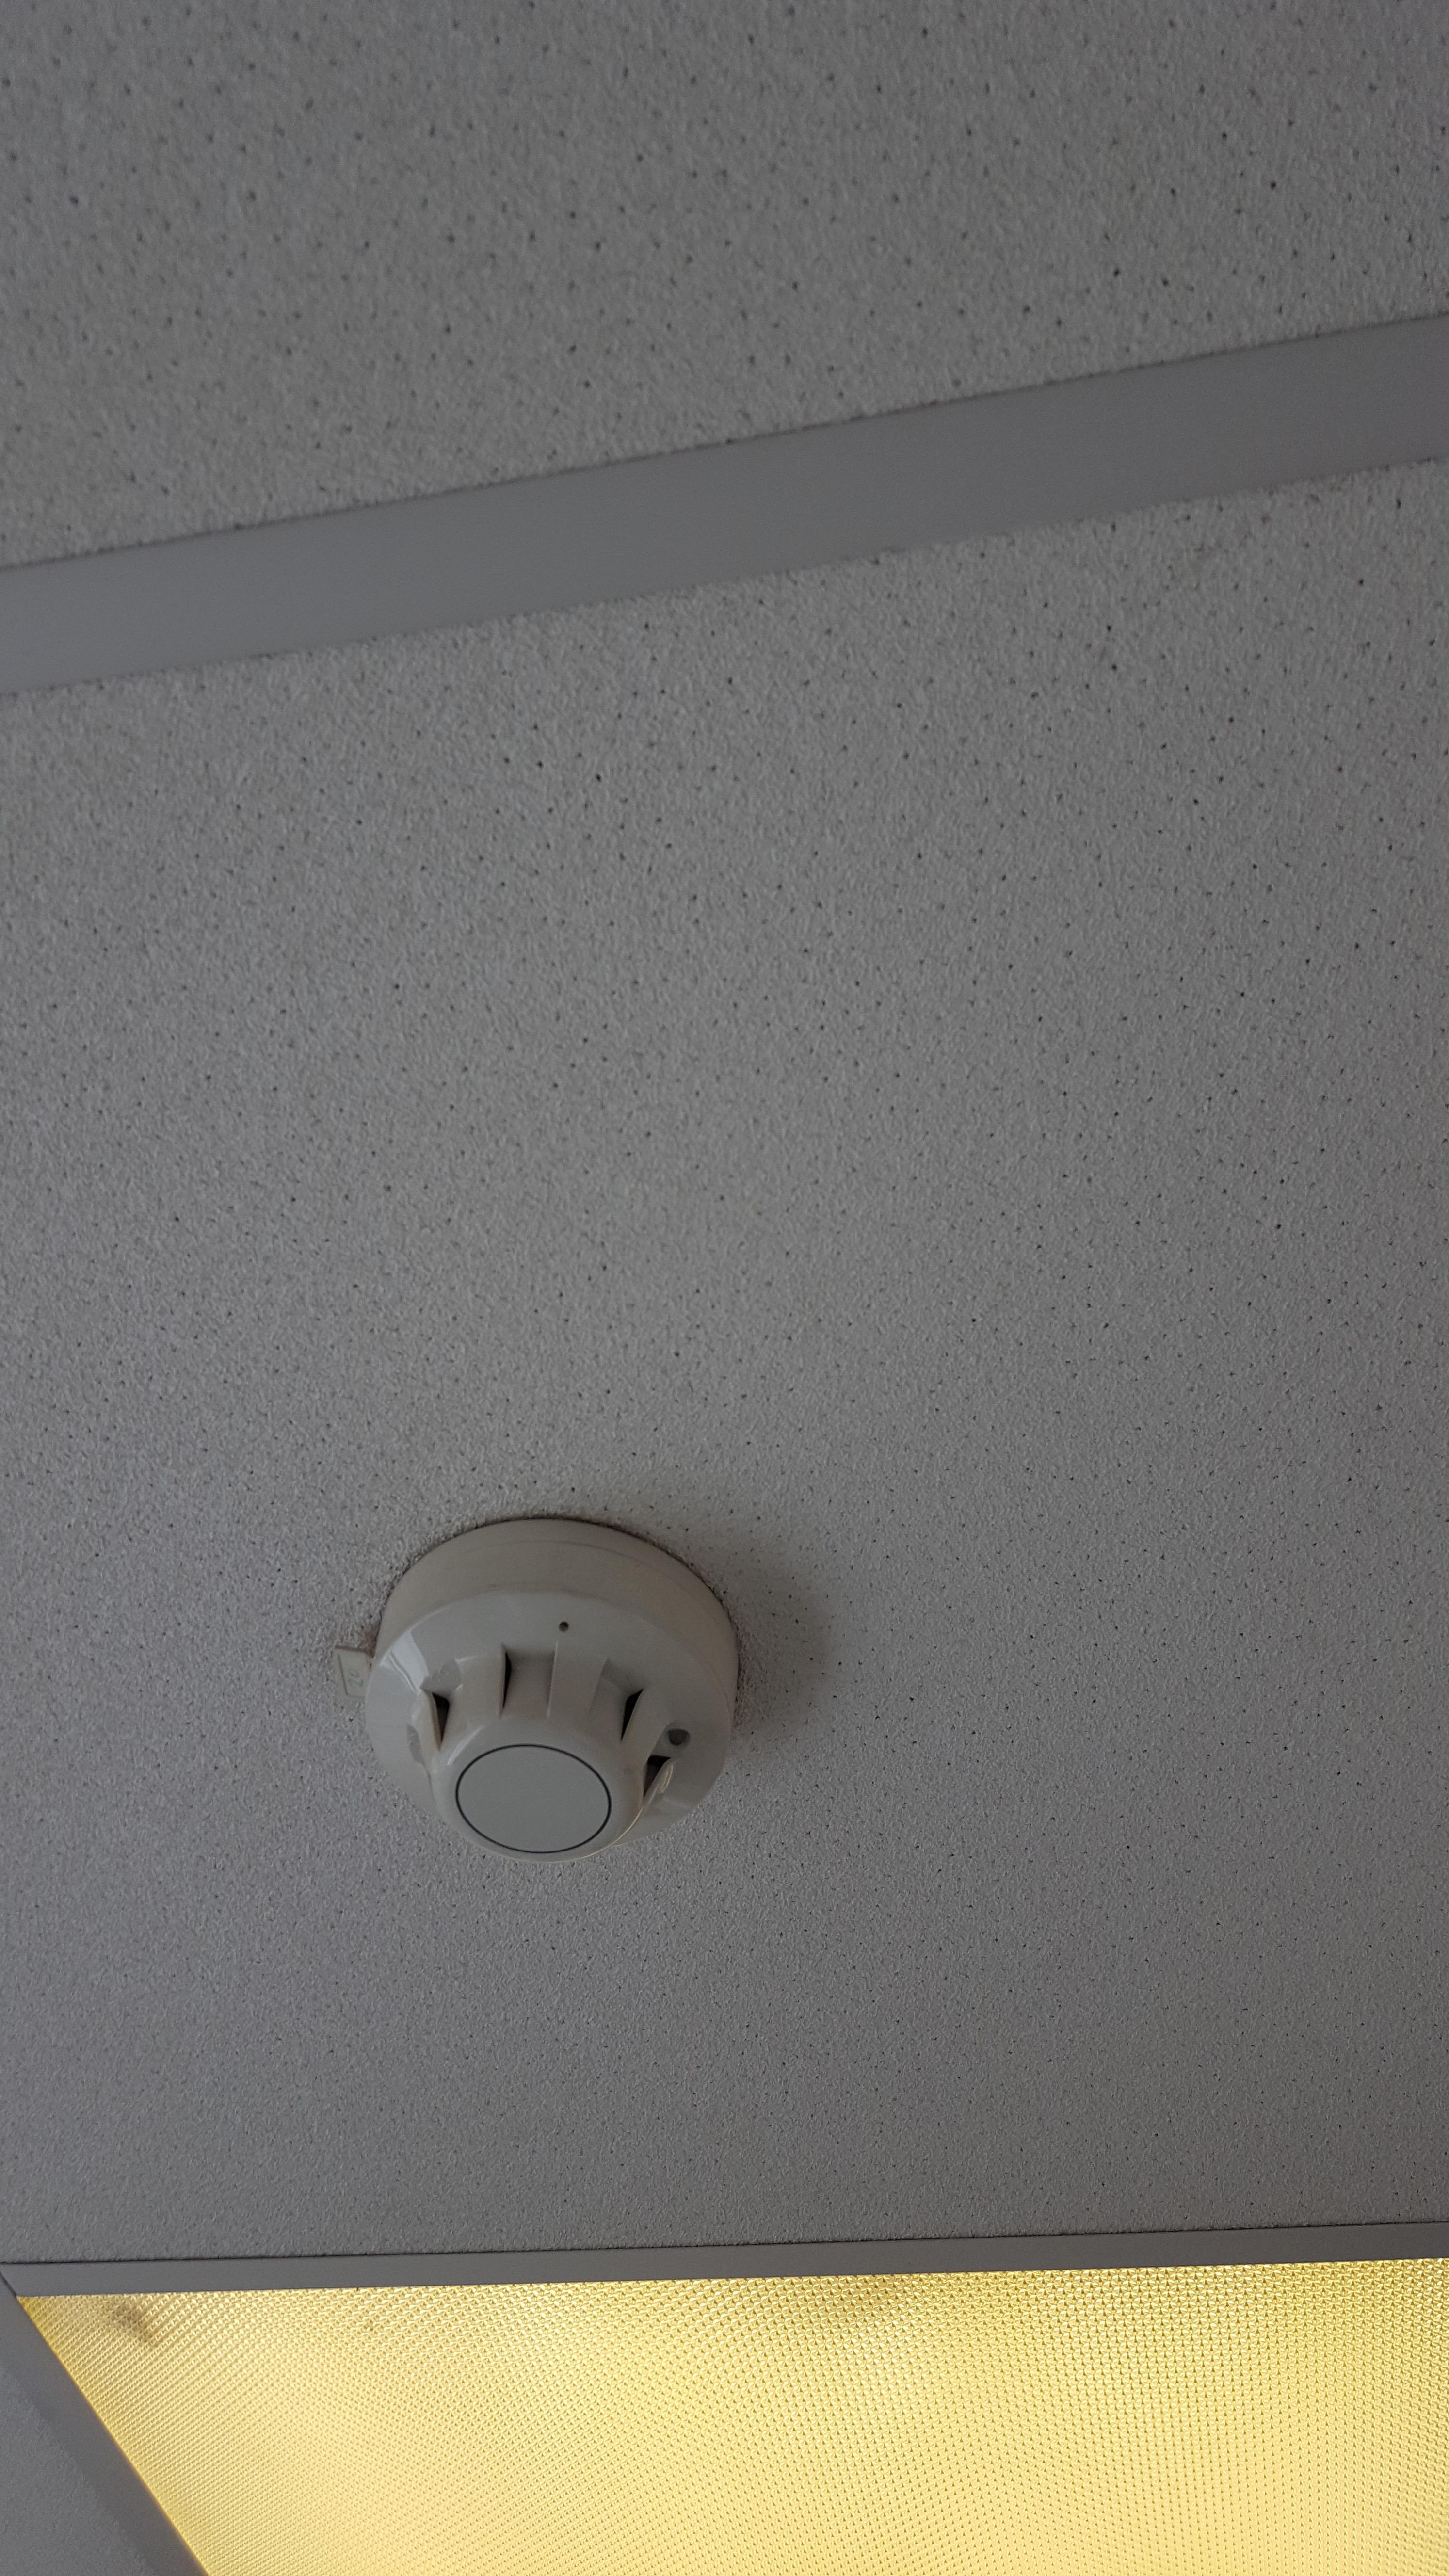detector: (361, 1516, 741, 1865)
